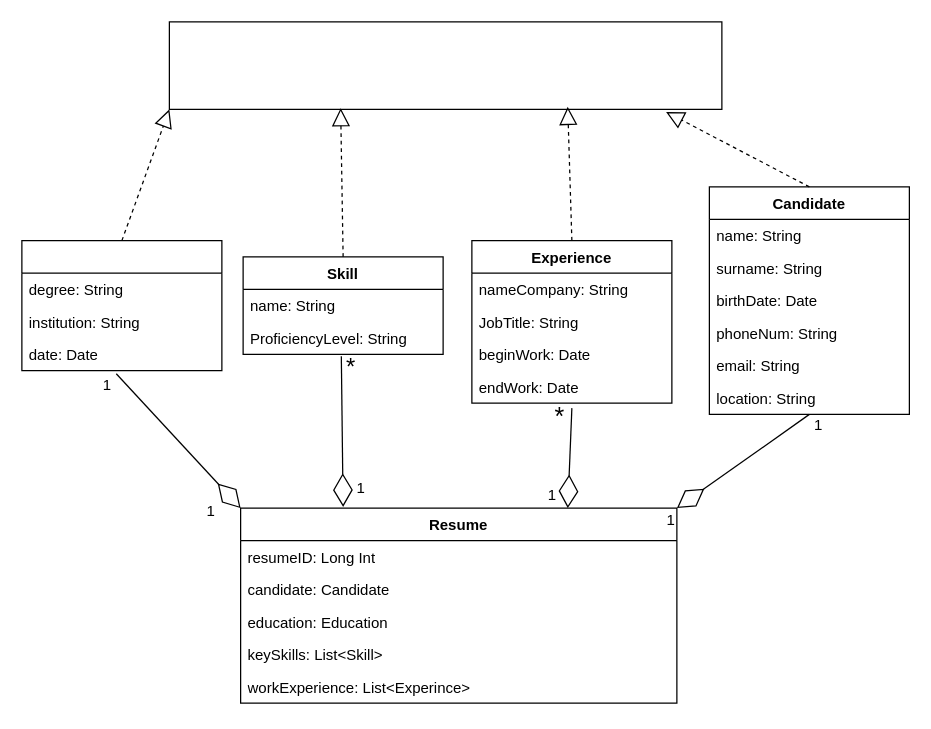
This 931x729 diagram has some shape labels left out. Each missing label, with the box of its shape:
<<Interface>> Informable getInfo(): String: (168, 21, 722, 109)
Education: (21, 239, 222, 371)
